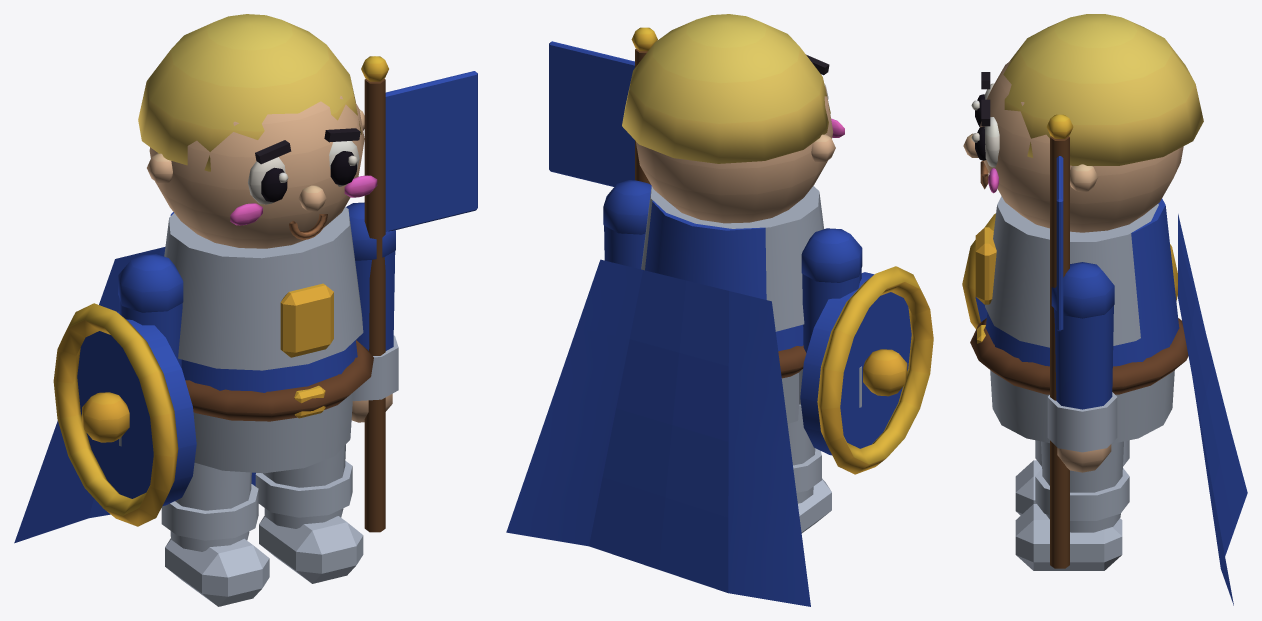
File: hero_cedric.glb
3 renders of one model, left to right at view 1: azimuth 30°, elevation 25°; view 2: azimuth 150°, elevation 25°; view 3: azimuth 270°, elevation 25°, orthographic. The views are drawn at different scales.
Parts seen in each view (by area): view 1: body_t0_palette, arml_t0_palette, armr_t0_palette, legl_t0_palette, legr_t0_palette; view 2: body_t0_palette, arml_t0_palette, armr_t0_palette, legl_t0_palette; view 3: body_t0_palette, armr_t0_palette, legr_t0_palette, arml_t0_palette, legl_t0_palette.
Part boxes in pixels (x1,y1,x2,y2): body_t0_palette: (14,14,377,543); arml_t0_palette: (53,254,196,526); armr_t0_palette: (346,56,477,532); legl_t0_palette: (161,463,269,606); legr_t0_palette: (255,444,363,583); body_t0_palette: (506,14,844,606); arml_t0_palette: (799,228,933,474); armr_t0_palette: (549,27,657,269); legl_t0_palette: (787,404,831,533); body_t0_palette: (963,14,1247,605); armr_t0_palette: (1046,114,1117,568); legr_t0_palette: (1015,441,1129,570); arml_t0_palette: (962,213,1177,329); legl_t0_palette: (1015,440,1129,515).
Bounding box in the file's own units: 0.3789 × 0.508 × 0.254.
